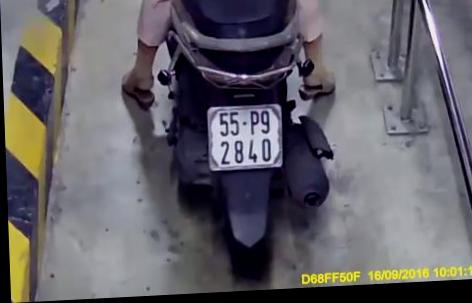License_Plate: (198, 96, 292, 182)
